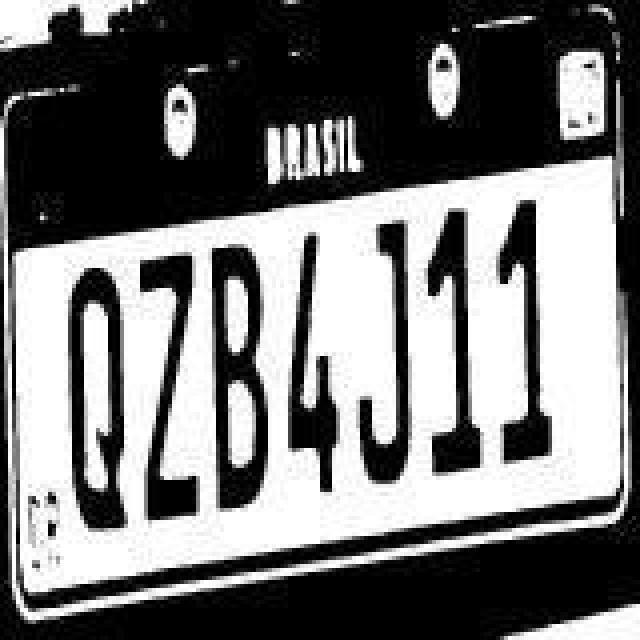1: (490, 200, 558, 472), (422, 206, 482, 482)
4: (280, 224, 344, 496)
B: (208, 238, 272, 514)
J: (354, 218, 422, 486)
Q: (66, 262, 126, 538)
Z: (138, 246, 198, 522)
